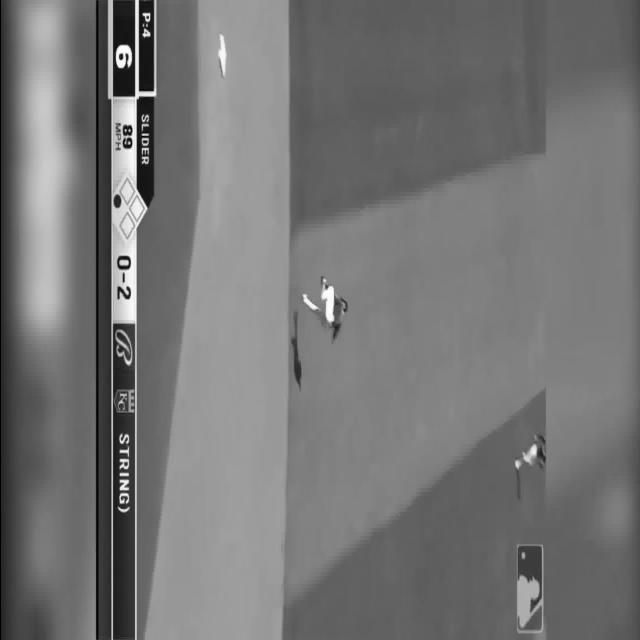baseball: (216, 33, 226, 77)
shoe: (514, 458, 520, 470), (320, 276, 326, 286), (301, 293, 307, 302)
